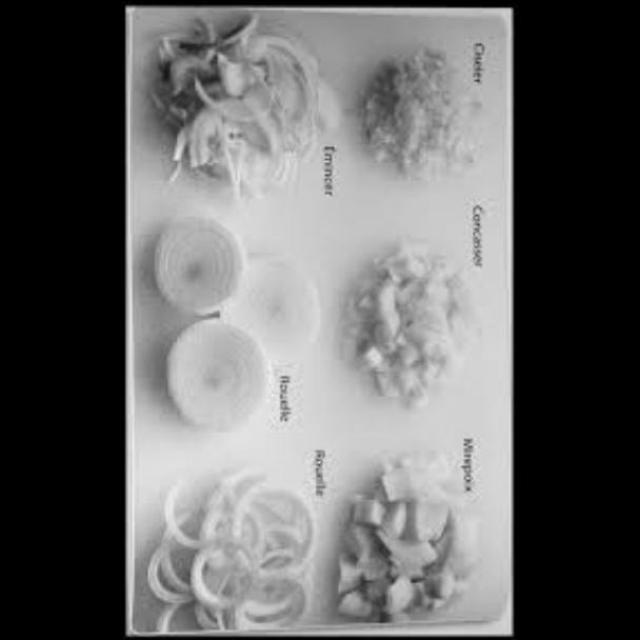cu hanh: (128, 216, 332, 422), (152, 456, 317, 640), (155, 30, 329, 202), (350, 36, 503, 204)
